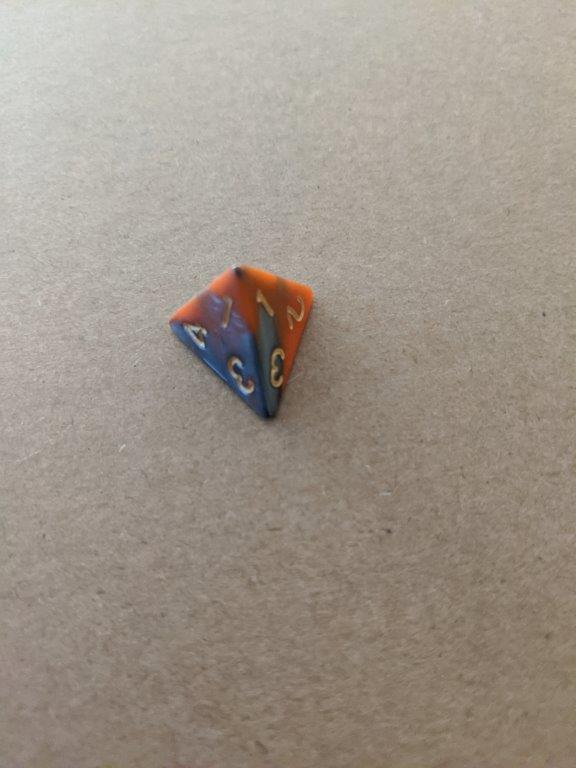d4-1: (160, 261, 318, 423)
